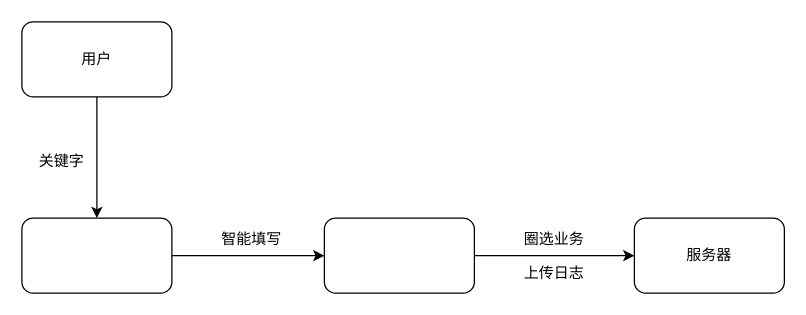
Some shapes in this 806 by 315 pixel diagram are drawn without their labels. The centre of each missing label's shape, as x and y in pixels:
"公屏" belongs at point 96,255.
"问题反馈页" belongs at point 398,255.
